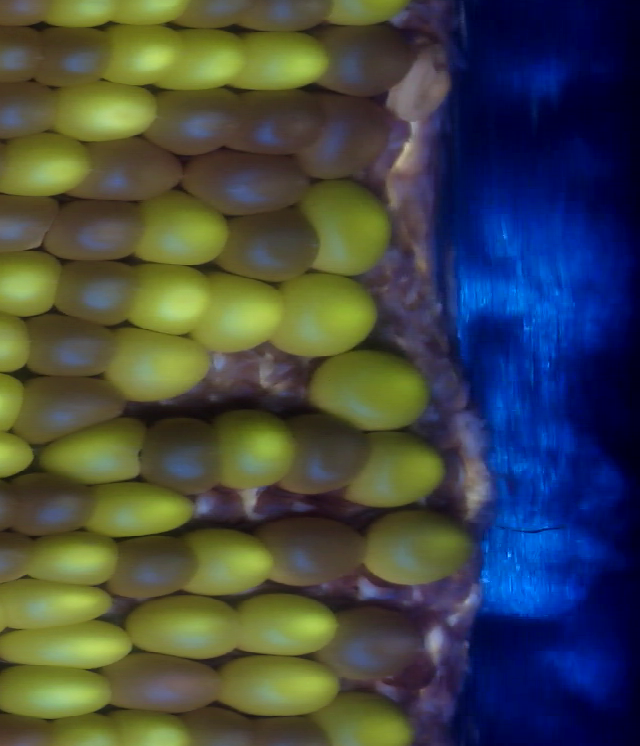fluorescent: (307, 341, 432, 433), (303, 174, 398, 282), (276, 269, 378, 367), (122, 582, 244, 660), (360, 507, 476, 586), (35, 413, 146, 490), (219, 650, 340, 719), (116, 320, 208, 407), (199, 265, 286, 355), (139, 187, 228, 274), (354, 430, 448, 509), (0, 660, 114, 722), (239, 590, 338, 659), (50, 77, 160, 139), (0, 575, 117, 633), (0, 620, 135, 670), (218, 406, 293, 493), (83, 477, 196, 534), (238, 23, 327, 95), (125, 259, 209, 335), (185, 528, 275, 598), (170, 16, 245, 97), (0, 134, 92, 197), (101, 20, 186, 88), (30, 530, 119, 592), (314, 692, 413, 746), (0, 244, 60, 316), (114, 711, 194, 746), (0, 422, 39, 481), (55, 713, 118, 746)
nonfluorescent: (303, 93, 396, 185), (209, 207, 329, 278), (187, 146, 312, 214), (14, 375, 128, 449), (265, 511, 371, 587), (74, 133, 188, 203), (288, 409, 371, 502), (316, 19, 414, 97), (324, 606, 424, 681), (99, 653, 220, 713), (14, 311, 112, 381), (109, 529, 202, 601), (139, 417, 218, 501), (225, 85, 324, 150), (7, 471, 99, 540), (46, 201, 145, 264), (32, 19, 116, 91), (149, 90, 241, 154), (53, 260, 135, 330), (0, 70, 60, 143), (0, 193, 62, 255), (247, 1, 332, 39), (0, 22, 49, 87), (184, 707, 256, 746), (254, 716, 326, 745), (0, 713, 60, 746), (176, 1, 235, 33), (0, 529, 33, 585)
